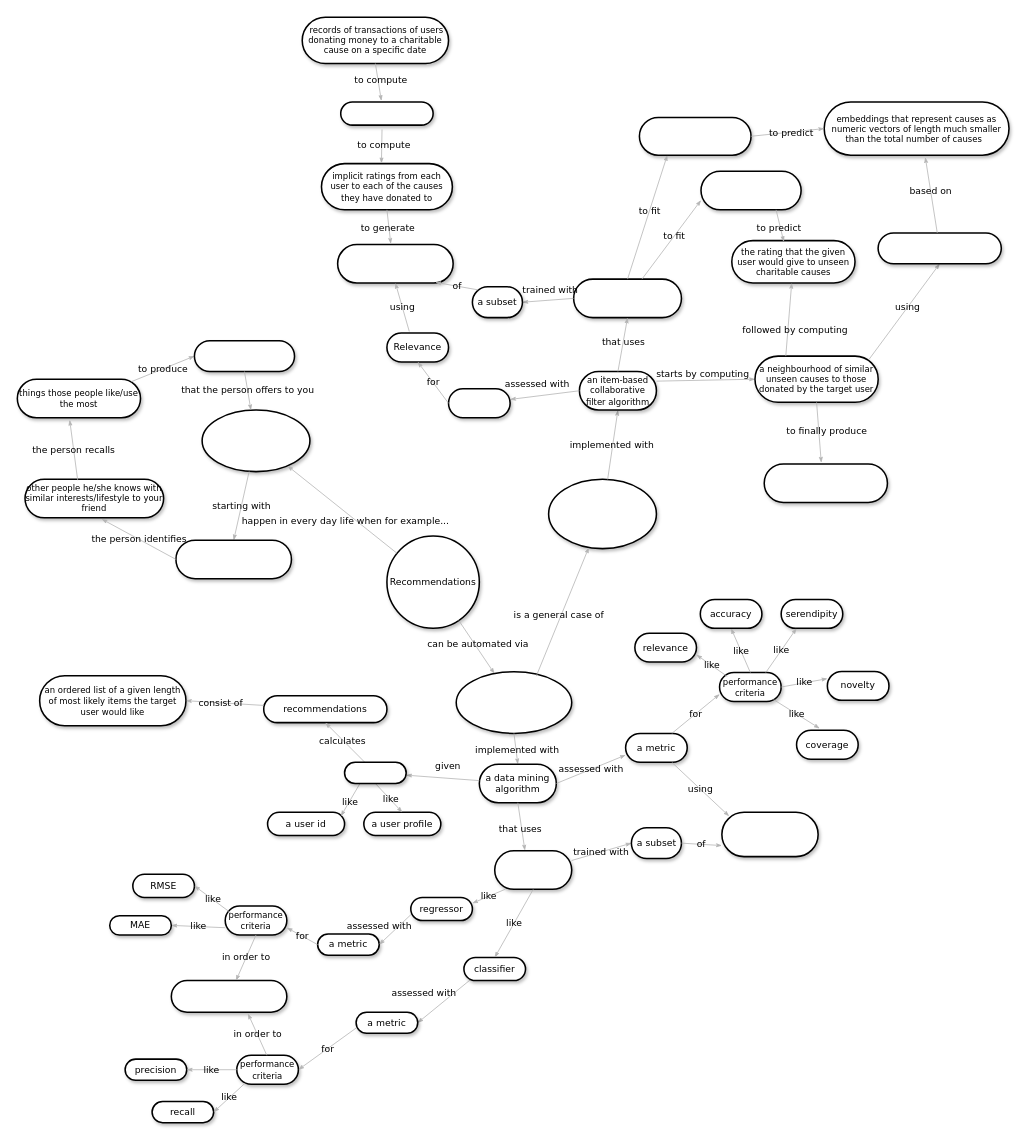
This 1027x1142 diagram has some shape labels left out. Here are the shapes that lost their labels. From the top down, the centre of each, then its label:
At (x=387, y=114): "custom features".
At (x=695, y=137): "a machine learning classification model".
At (x=751, y=191): "a machine learning regression model".
At (x=395, y=264): "a data set of 1.4 million triplets containing user, cause, and rating".
At (x=940, y=249): "the pair-wise inter-cause distance".
At (x=627, y=299): "dual-autoencoders called obj2vec in SageMaker (AWS)".
At (x=245, y=356): "a few gift ideas for your friend".
At (x=479, y=404): "MAP".
At (x=256, y=441): "a person makes a recommendation to you for a gift to a friend".
At (x=826, y=484): "a ranked list of causes staring with the most relevant to the tagrget user".
At (x=602, y=514): "a recommendation system for users looking to donate to charitable causes".
At (x=234, y=560): "a description of your friend's interests or lifestyle".
At (x=514, y=703): "a recommendation system for users and items".
At (x=375, y=773): "target".
At (x=770, y=835): "data of preferences for users to items".
At (x=533, y=871): "machine learning algorithms".
At (x=229, y=997): "maximize generalization while avoiding overfitting".
